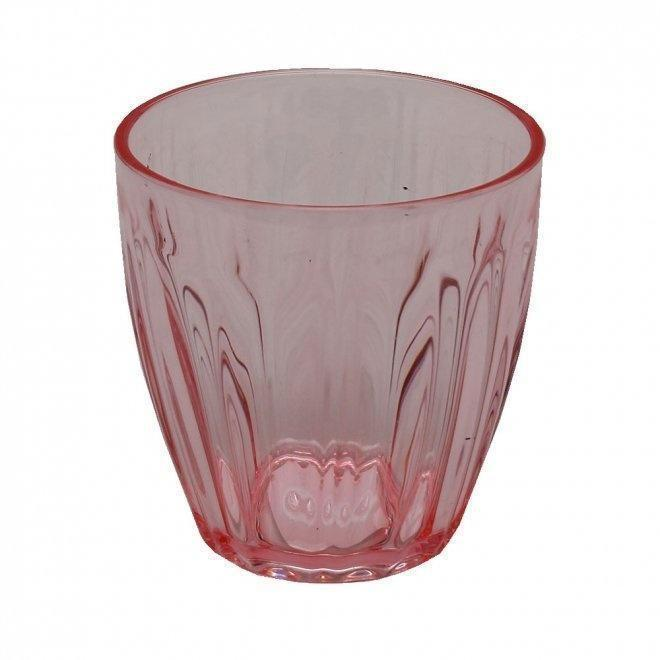glass-normal: (111, 62, 550, 589)
